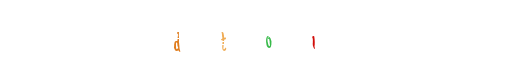0: (225, 0, 305, 80)
1: (228, 0, 308, 80)
D: (177, 0, 257, 80)
T: (186, 0, 266, 80)
